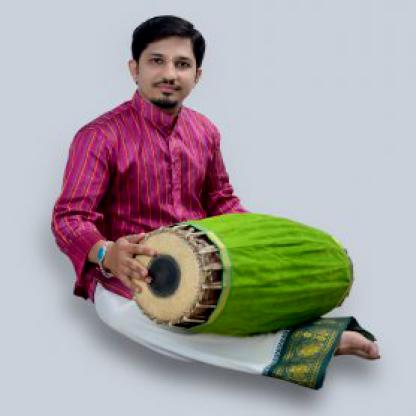Mridangam: (122, 209, 366, 338)
